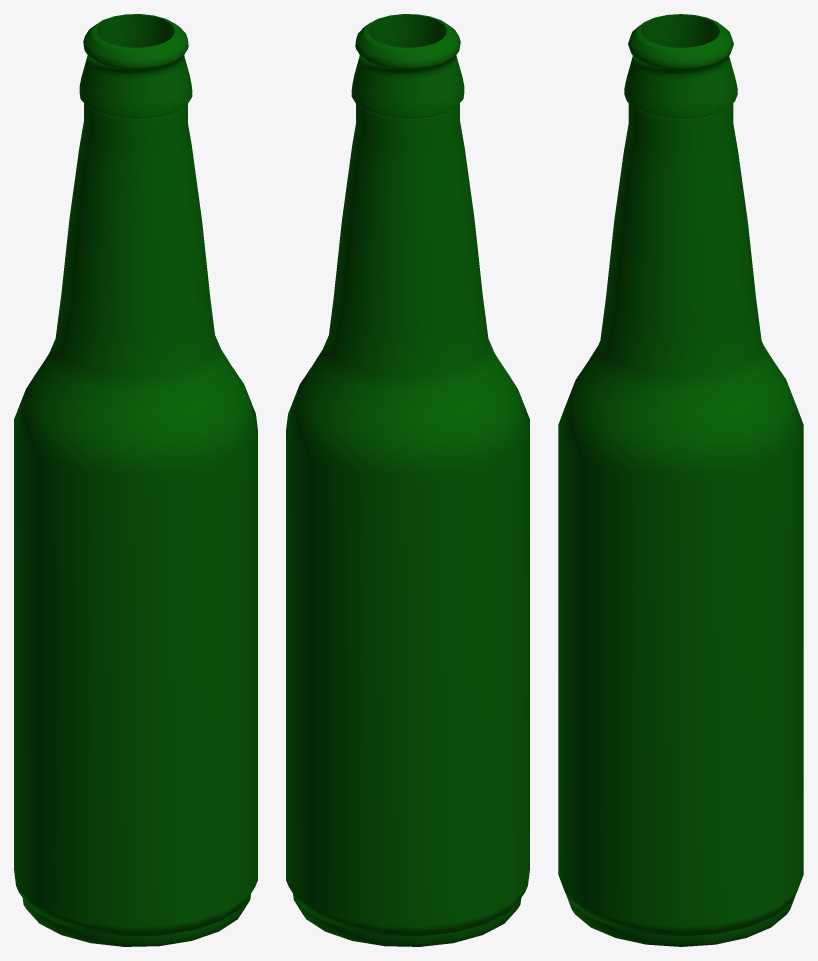
The model's file is Beer_Bottle.fbx.
3 renders of one model, left to right at view 1: azimuth 30°, elevation 25°; view 2: azimuth 150°, elevation 25°; view 3: azimuth 270°, elevation 25°, orthographic.
Parts seen in each view (by area): view 1: pCylinder1; view 2: pCylinder1; view 3: pCylinder1.
Boxes of the visible parts, bbox=[...] form: pCylinder1: bbox=[14, 14, 257, 946]; pCylinder1: bbox=[286, 14, 529, 946]; pCylinder1: bbox=[558, 14, 803, 946].
Bounding box in the file's own units: 4.45 × 17.4 × 4.45.
